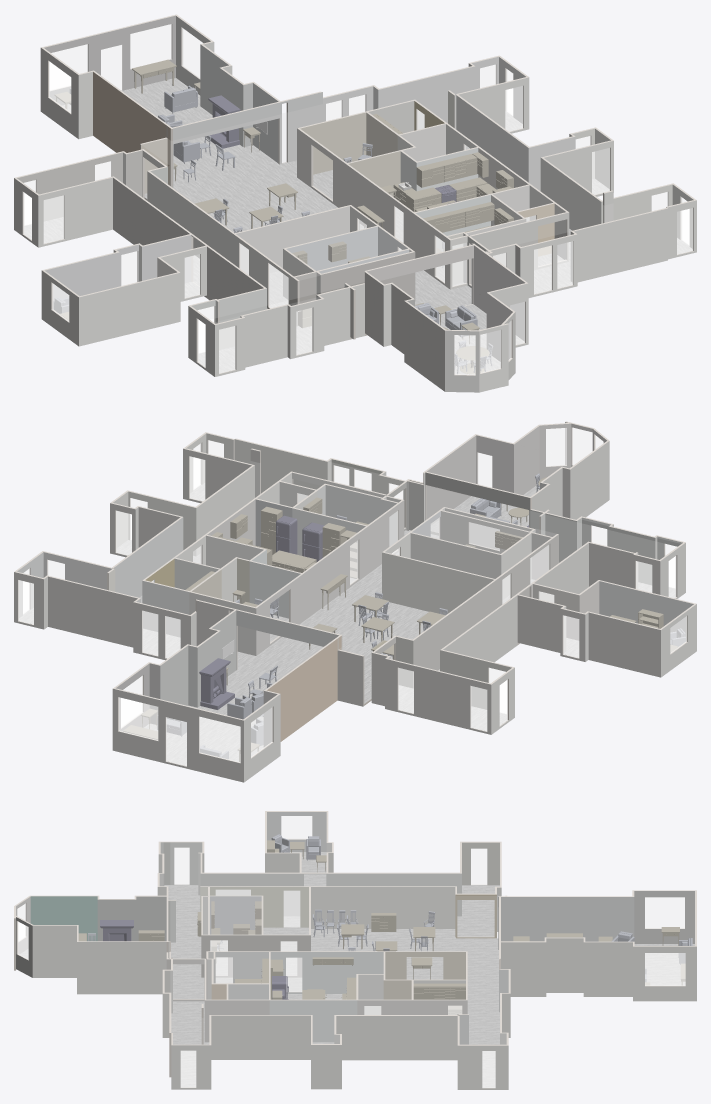
File: 18880 Interior better.glb
3 renders of one model, top to bottom at view 1: azimuth 30°, elevation 25°; view 2: azimuth 150°, elevation 25°; view 3: azimuth 270°, elevation 25°, orthographic. The views are drawn at different scales.
Parts seen in each view (by area): view 1: ceiling_Other_1, floor_Other_1, ceiling_Living_Room_7, ceiling_Living_Room_2, wall_51, wall_11, floor_Living_Room_1, wall_25, wall_3, wall_62, wall_147, wall_339 (+110 smaller); view 2: ceiling_Other_1, floor_Other_1, ceiling_Living_Room_7, ceiling_Living_Room_2, wall_98, wall_102, wall_149, wall_110, wall_25, wall_112, floor_Living_Room_1, wall_147 (+103 smaller); view 3: ceiling_Other_1, floor_Other_1, ceiling_Living_Room_7, wall_128, wall_2, wall_193, wall_21, wall_19, ceiling_Living_Room_2, wall_63, wall_48, wall_8 (+63 smaller).
Boxes of the visible parts, bbox=[...] form: ceiling_Other_1: bbox=[16, 57, 692, 319]; floor_Other_1: bbox=[24, 111, 692, 373]; ceiling_Living_Room_7: bbox=[45, 16, 228, 91]; ceiling_Living_Room_2: bbox=[366, 245, 524, 308]; wall_51: bbox=[79, 272, 180, 346]; wall_11: bbox=[574, 208, 667, 282]; floor_Living_Room_1: bbox=[62, 78, 278, 189]; wall_25: bbox=[93, 72, 166, 152]; wall_3: bbox=[236, 206, 349, 274]; wall_62: bbox=[38, 177, 112, 247]; wall_147: bbox=[147, 171, 233, 263]; wall_339: bbox=[44, 15, 175, 105]; ceiling_Other_1: bbox=[16, 434, 675, 682]; floor_Other_1: bbox=[19, 483, 675, 730]; ceiling_Living_Room_7: bbox=[116, 646, 290, 718]; ceiling_Living_Room_2: bbox=[427, 436, 579, 496]; wall_98: bbox=[112, 689, 243, 782]; wall_102: bbox=[48, 576, 137, 647]; wall_149: bbox=[382, 552, 493, 614]; wall_110: bbox=[385, 659, 491, 734]; wall_25: bbox=[267, 639, 337, 741]; wall_112: bbox=[588, 612, 660, 677]; floor_Living_Room_1: bbox=[144, 670, 277, 765]; wall_147: bbox=[413, 580, 496, 687]; ceiling_Other_1: bbox=[171, 842, 507, 1044]; floor_Other_1: bbox=[164, 884, 499, 1087]; ceiling_Living_Room_7: bbox=[585, 891, 695, 945]; wall_128: bbox=[336, 1016, 457, 1060]; wall_2: bbox=[311, 887, 455, 928]; wall_193: bbox=[506, 897, 634, 941]; wall_21: bbox=[77, 942, 166, 994]; wall_19: bbox=[211, 1015, 310, 1059]; ceiling_Living_Room_2: bbox=[78, 896, 166, 940]; wall_63: bbox=[583, 942, 632, 996]; wall_48: bbox=[270, 952, 383, 993]; wall_8: bbox=[32, 925, 76, 977].
Bounding box in the file's own units: 30.2 × 3.28 × 37.17.
Materials: 421 (12 with a texture image).
